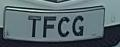C: (57, 13, 72, 40)
F: (42, 13, 57, 41)
G: (71, 13, 86, 39)
T: (25, 12, 42, 41)
